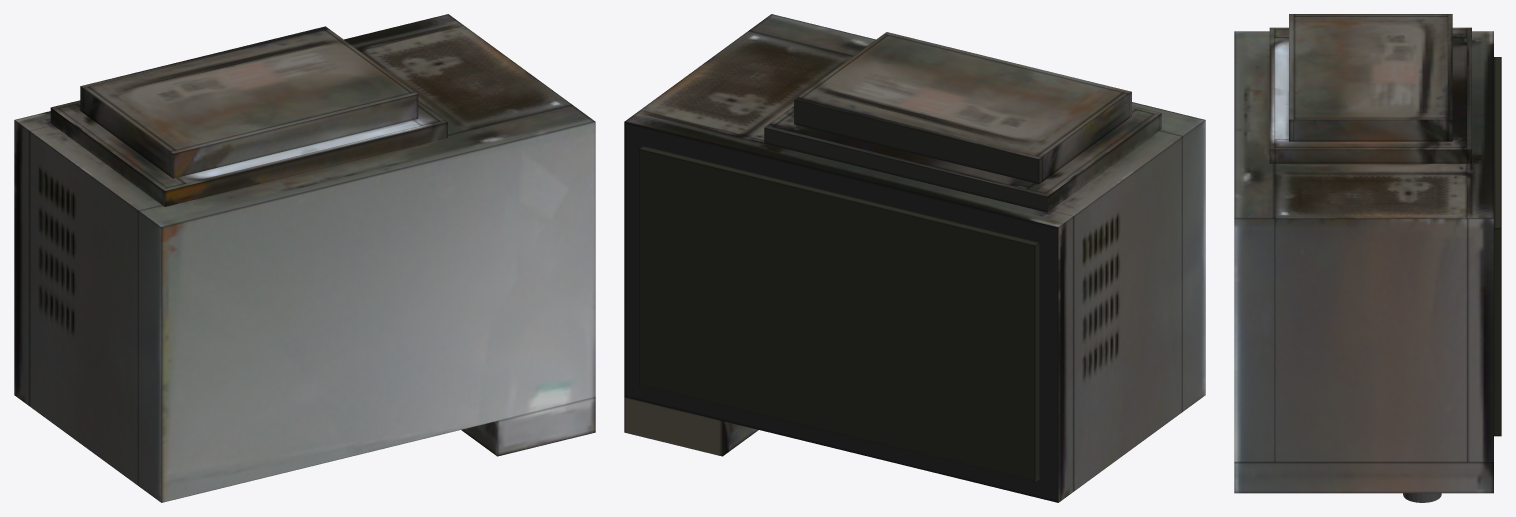
Rendered from body.glb.
The picture shows the model from 3 angles, left to right: view 1: azimuth 30°, elevation 25°; view 2: azimuth 150°, elevation 25°; view 3: azimuth 270°, elevation 25°; orthographic projection. The views are drawn at different scales.
Visible parts, largest first — view 1: world; view 2: world; view 3: world.
Boxes of the visible parts, left/top/right/bottom form: world: left=14, top=14, right=595, bottom=502; world: left=624, top=14, right=1205, bottom=502; world: left=1234, top=14, right=1501, bottom=502.
Bounding box in the file's own units: 0.46 × 0.378 × 0.278.
1 material, 1 textured.
